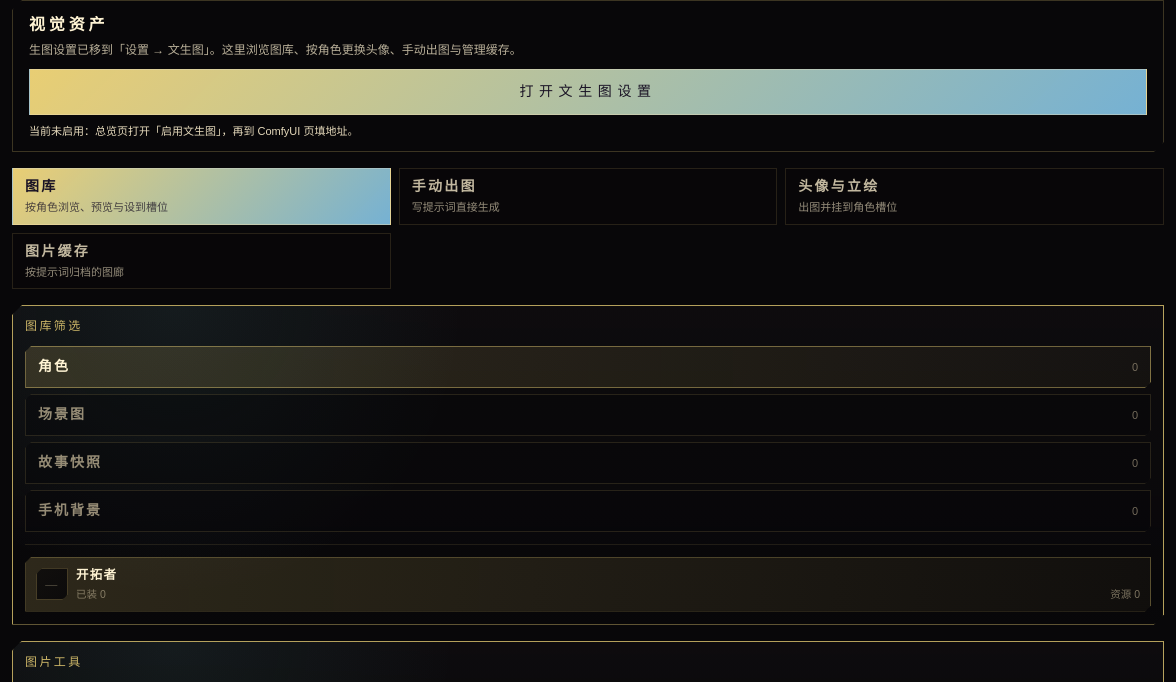
Scenario: 图片缓存页 › 缓存为空时说明原因，而不是留一片空白
Click the button "图片缓存 按提示词归档的图廊". click: (57, 251)
box: [12,232,391,289]
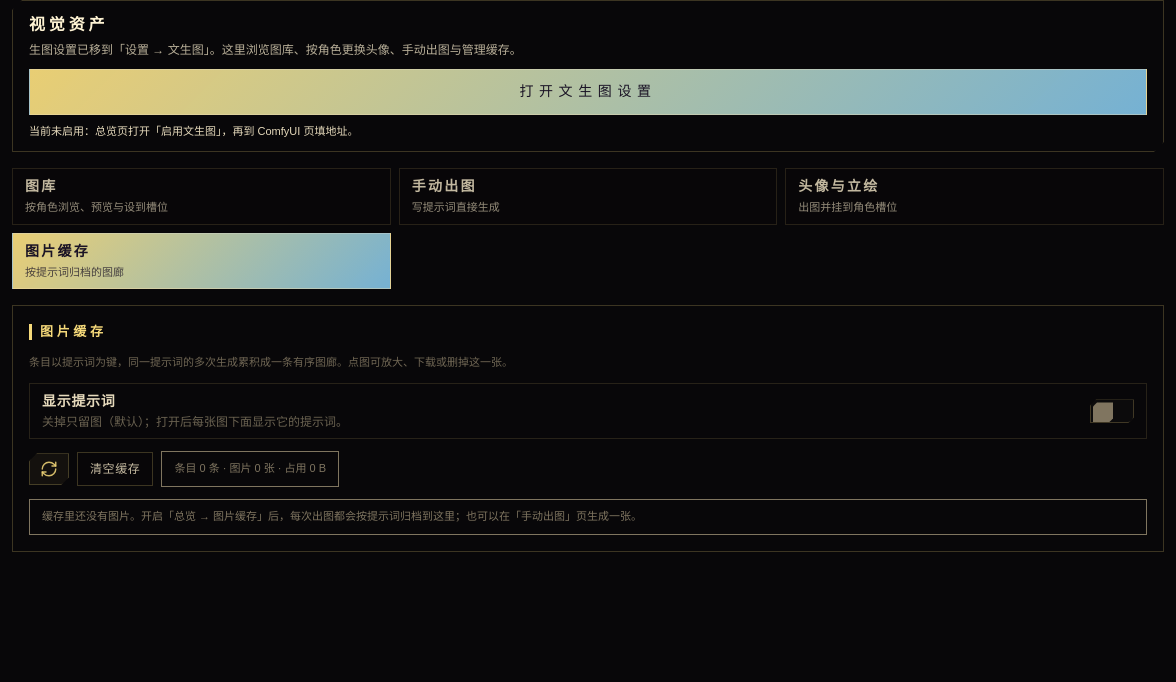
Expected: the text "缓存里还没有图片。开启「总览 → 图片缓存」后，每次出图都会按提示词归档到这里；也可以在「手动出图」页生成一张。" is shown, [29,499,1147,535]
